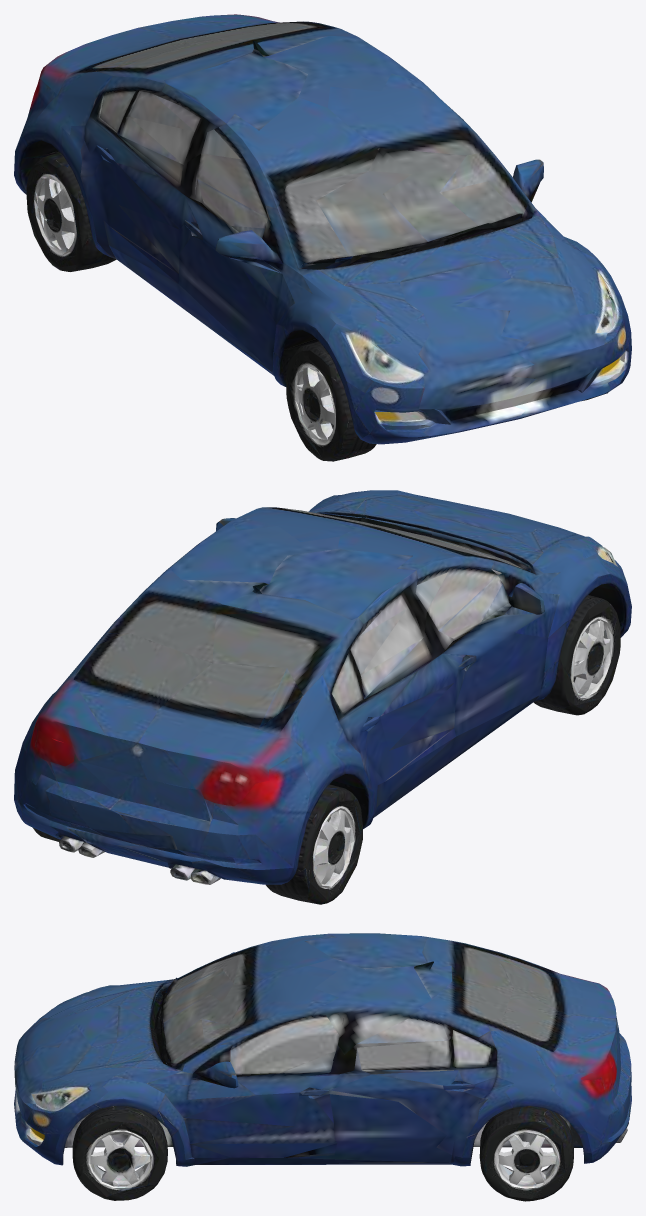
Rendered from sedan.glb.
The picture shows the model from 3 angles, top to bottom: view 1: azimuth 30°, elevation 25°; view 2: azimuth 150°, elevation 25°; view 3: azimuth 270°, elevation 25°; orthographic projection. The views are drawn at different scales.
Parts seen in each view (by area): view 1: output_unwrapped; view 2: output_unwrapped; view 3: output_unwrapped.
Boxes of the visible parts, <box> form: output_unwrapped: <box>14,14,631,461</box>; output_unwrapped: <box>14,490,631,904</box>; output_unwrapped: <box>14,933,631,1201</box>.
Size of the model in its own units: 0.9177 by 0.6385 by 1.9.
Materials: 1 (1 with a texture image).
